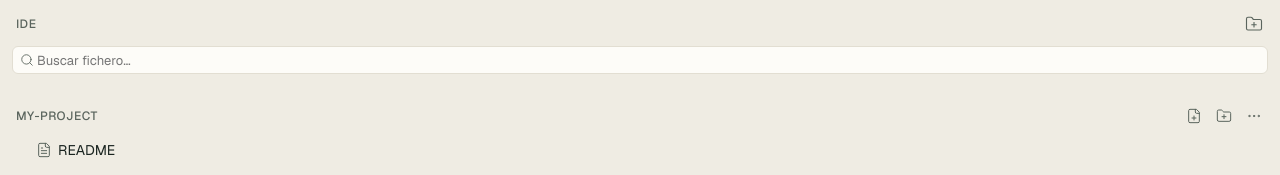
Test: IdeTree › TC-12: shows "Sin resultados" when no match
In the field with test id "ide-search-input": point(640, 60) [12,46,1268,74], type "zzznomatch"
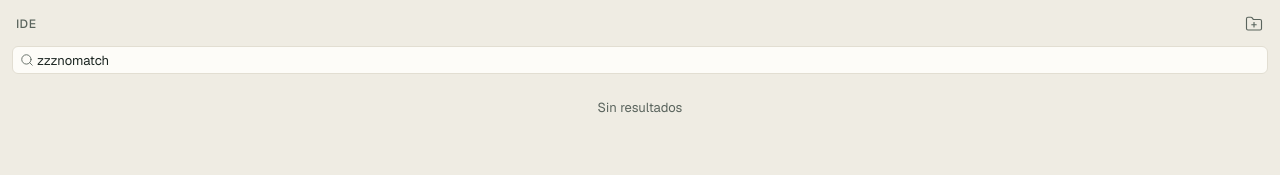
Expected: the text "Sin resultados" is shown, [598,99,682,116]
